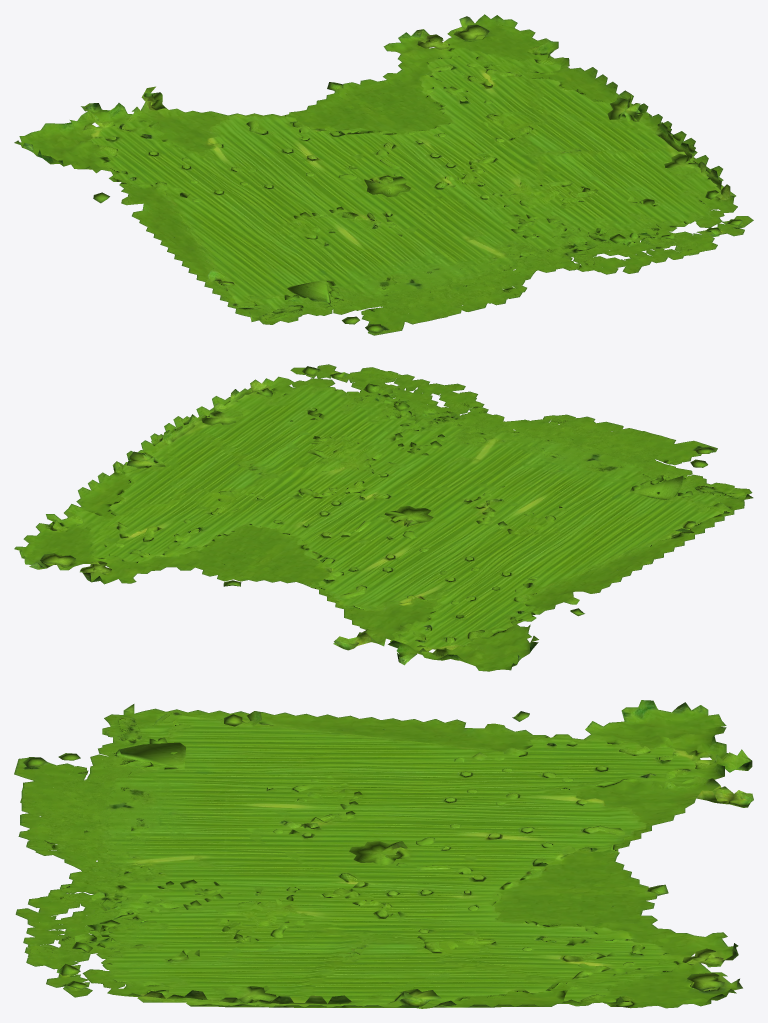
Rendered from wild_grass_patch.glb.
3 renders of one model, top to bottom at view 1: azimuth 30°, elevation 25°; view 2: azimuth 150°, elevation 25°; view 3: azimuth 270°, elevation 25°, orthographic. The views are drawn at different scales.
Bounding box in the file's own units: 1.86 × 0.0548 × 1.9.
1 material, 1 textured.
